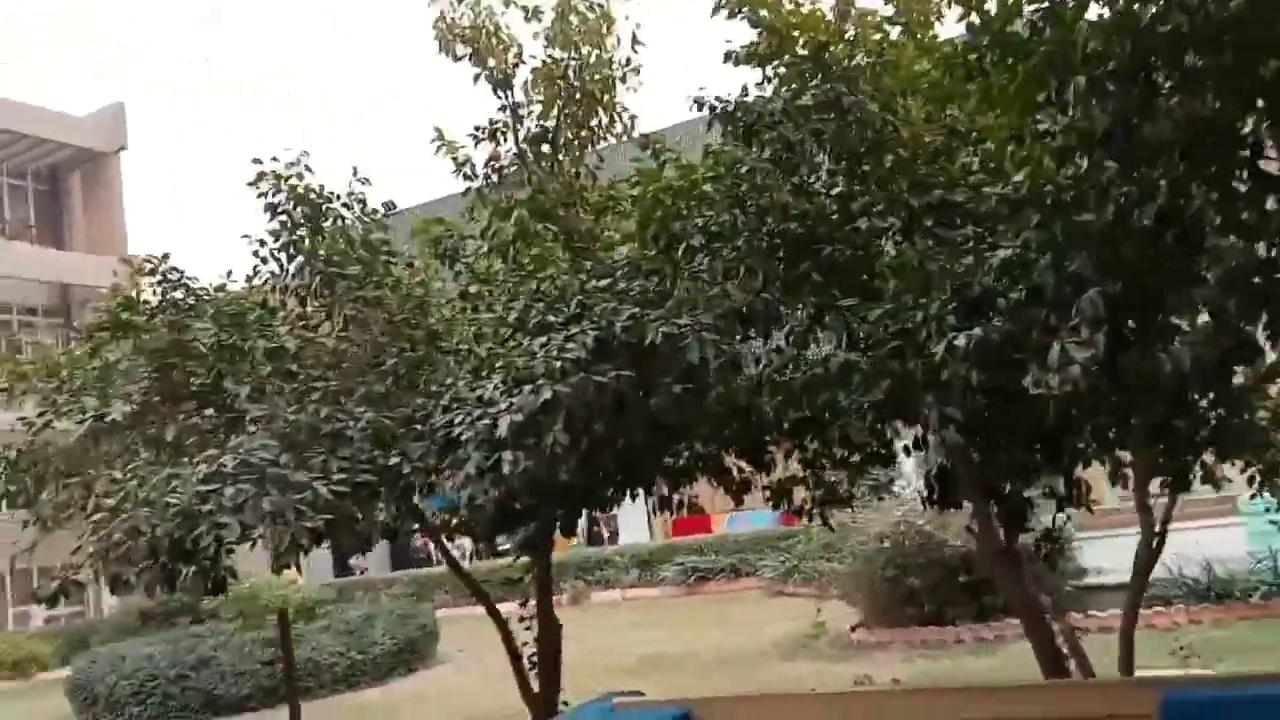fountain: (885, 418, 933, 505), (613, 487, 652, 545), (351, 537, 393, 576)
person: (996, 479, 1033, 546)
tree: (3, 1, 1276, 711), (2, 146, 556, 717), (834, 537, 996, 628)
